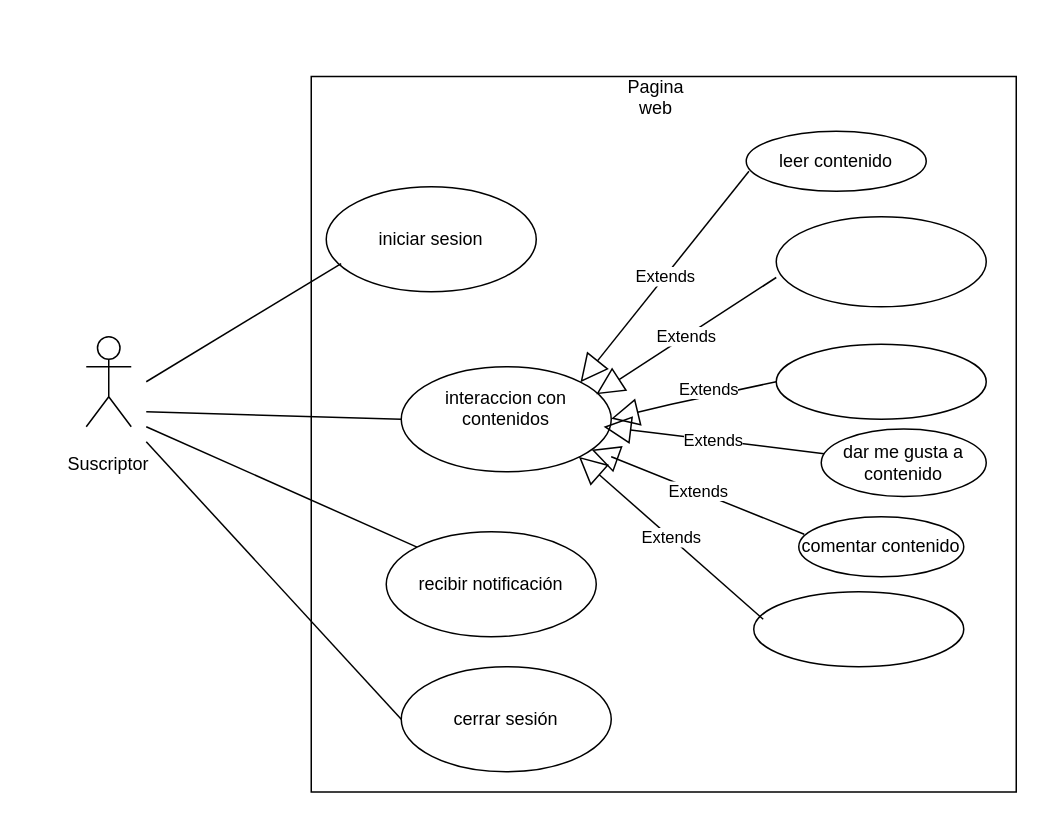
The diagram is 1043 pixels wide and 818 high, and some of its shapes have lost their labels. The shapes that lost their labels are listed below. From the top down, each one's box as (x1, y1, x2, y2) in pixels, then its label:
(775, 215, 986, 307): seleccionar categoria de contenido
(85, 335, 131, 427): Actor
(775, 343, 986, 419): Navegar entre contenidos
(752, 590, 964, 667): Compartir contenido
